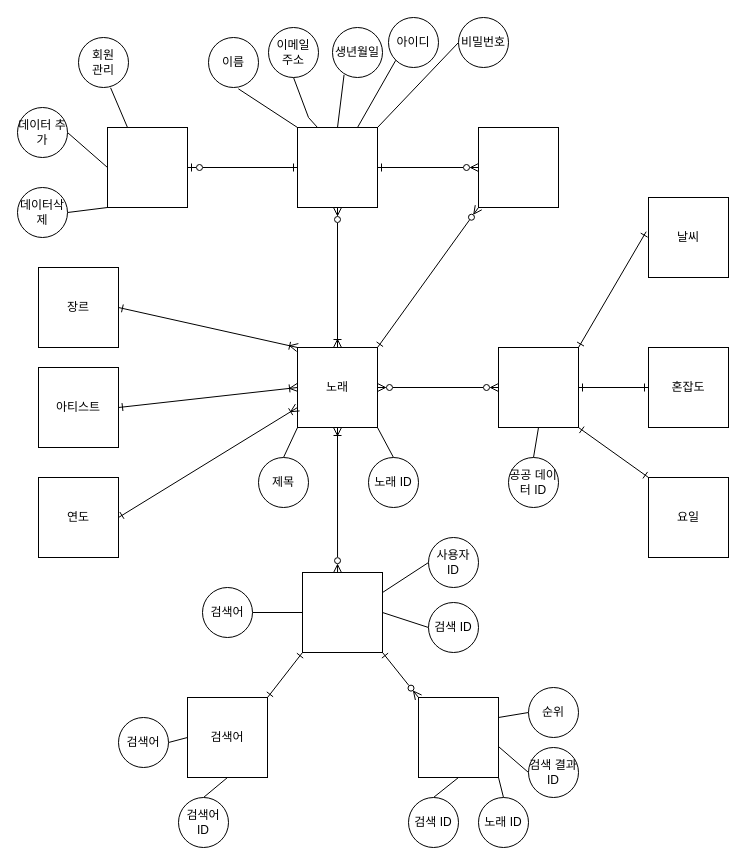
This 746x865 diagram has some shape labels left out. The centre of each missing label's shape, as x and y in pixels:
"검색" belongs at pixel 342 612.
"검색 결과" belongs at pixel 458 737.
"공공 데이터" belongs at pixel 538 387.
"관리자" belongs at pixel 147 167.
"회원" belongs at pixel 337 167.
"히스토리 내역" belongs at pixel 518 167.
